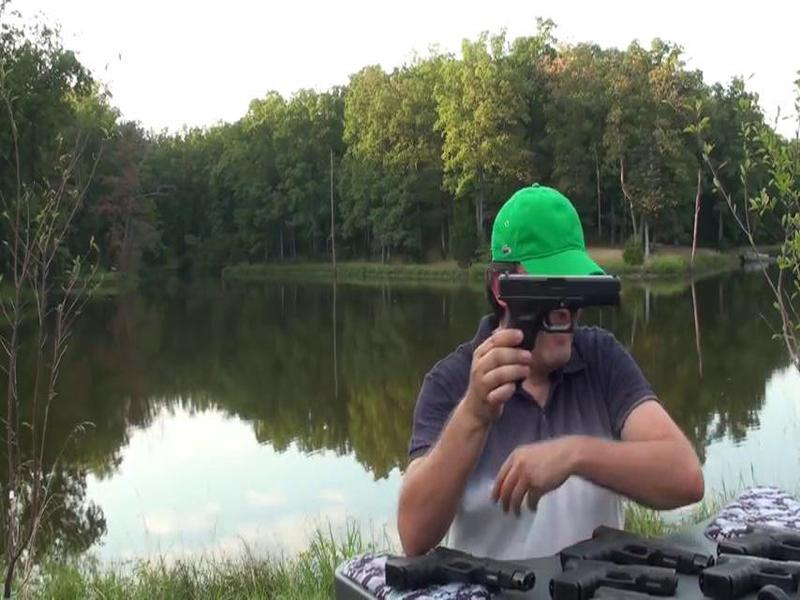Pistola: (471, 249, 630, 390)
